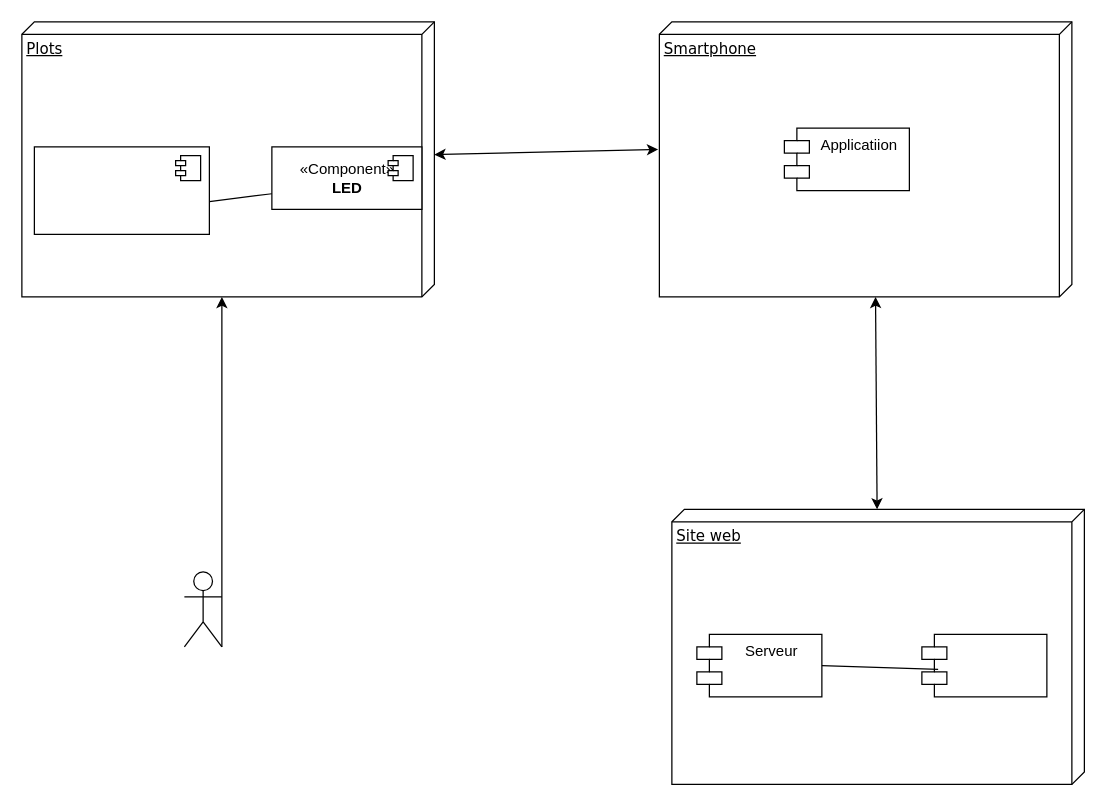
Image size: 1106x806. Some labels were removed from this diagram. The centre of each missing label's shape, as x and y in pixels:
Actor: the point at 202,609
BDD: the point at 984,665
«Component» Application embarquée: the point at 121,190
